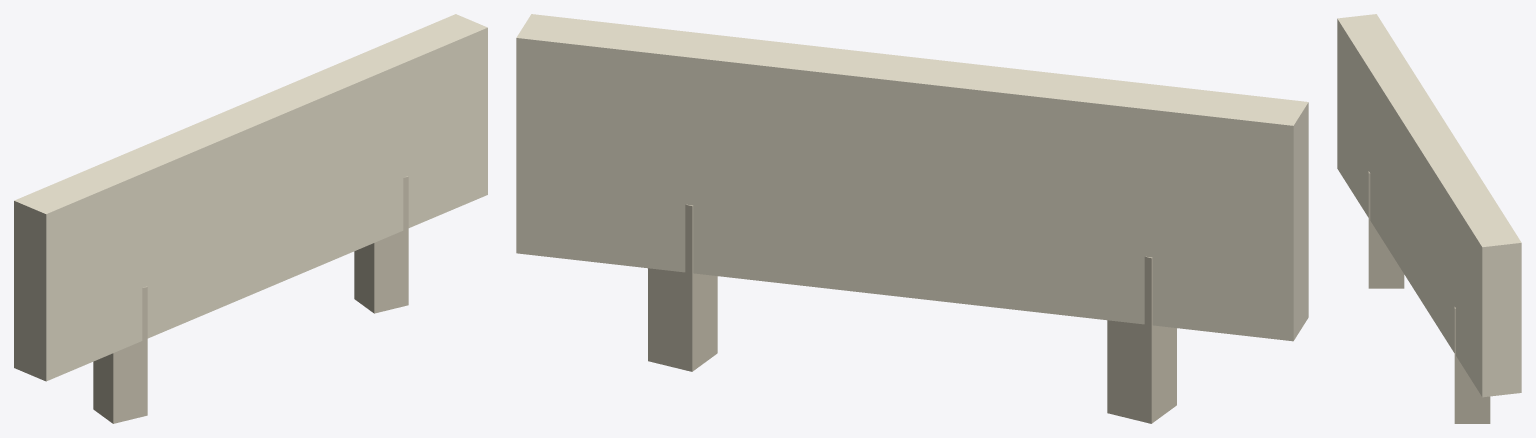
The model's file is rail-15.glb.
3 renders of one model, left to right at view 1: azimuth 30°, elevation 25°; view 2: azimuth 150°, elevation 25°; view 3: azimuth 270°, elevation 25°, orthographic. The views are drawn at different scales.
Size of the model in its own units: 0.5416 by 0.2362 by 0.181.
